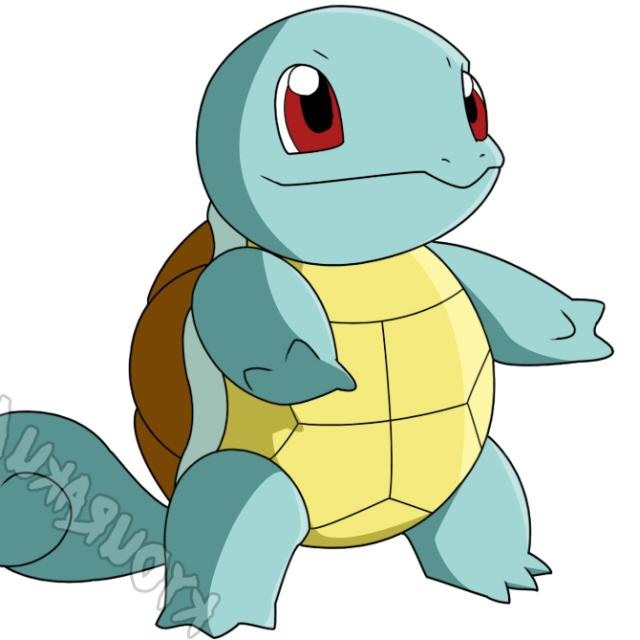Squirtle: (130, 8, 509, 575)
